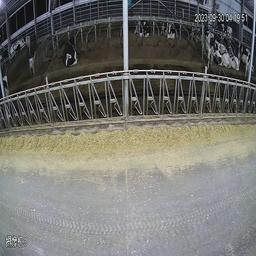cow: (199, 22, 214, 69), (235, 37, 251, 77), (61, 36, 79, 68), (215, 21, 233, 47), (160, 19, 177, 43), (135, 19, 150, 39)
